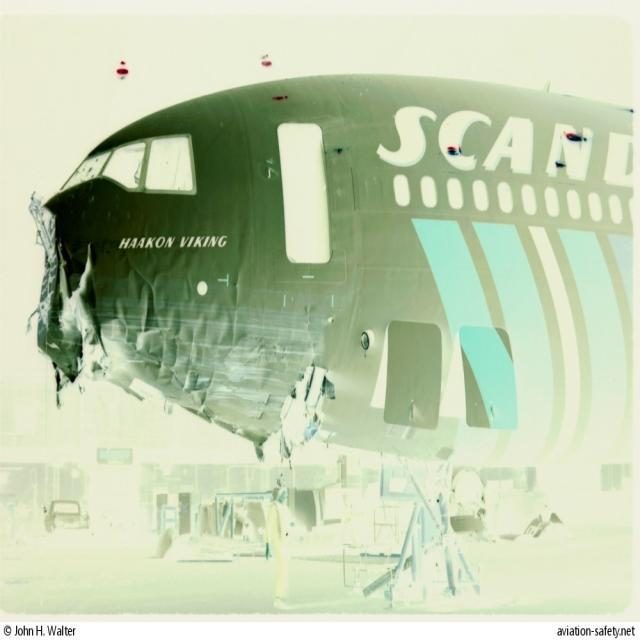dent: (111, 260, 294, 424)
